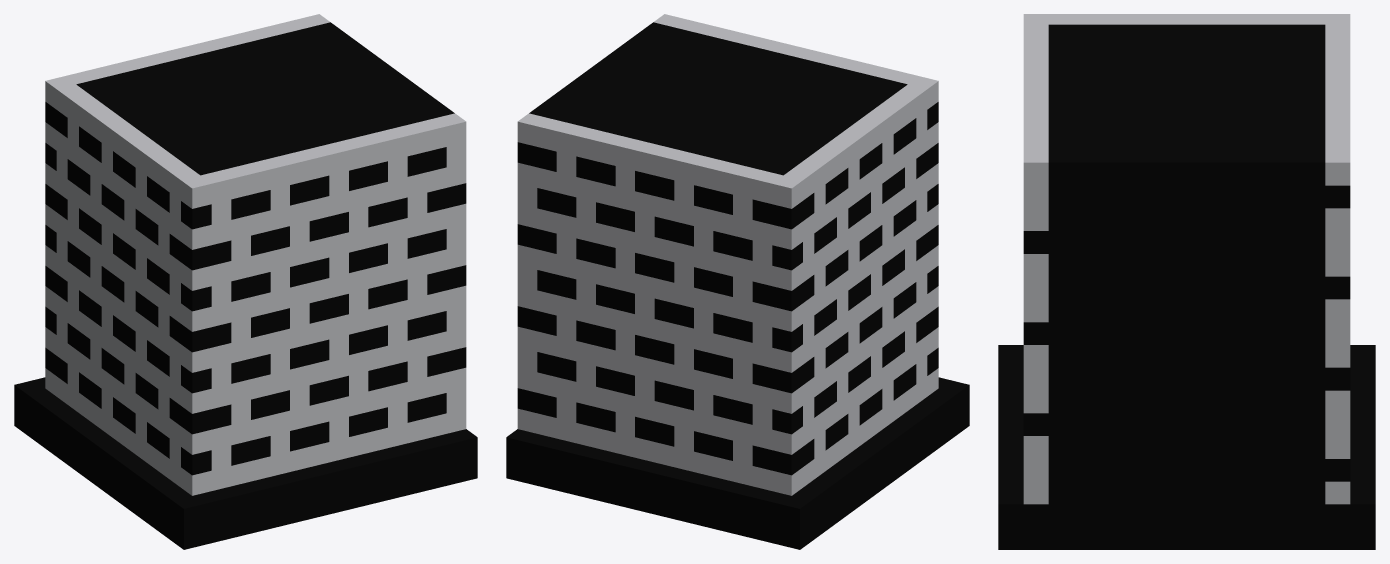
File: dungeon_d_b_inner_wall_ending_flipped.obj
3 renders of one model, left to right at view 1: azimuth 30°, elevation 25°; view 2: azimuth 150°, elevation 25°; view 3: azimuth 270°, elevation 25°, orthographic. The views are drawn at different scales.
Bounding box in the file's own units: 1.5 × 1.7 × 1.5.
1 material, 1 textured.
